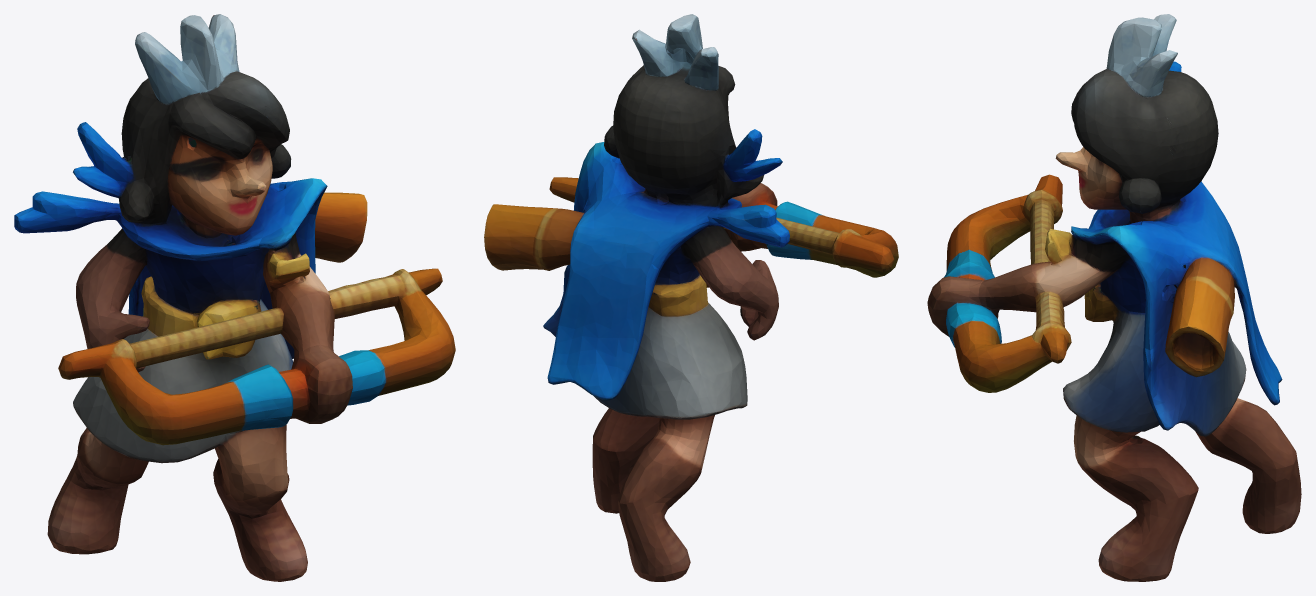
The model's file is princess.glb.
3 renders of one model, left to right at view 1: azimuth 30°, elevation 25°; view 2: azimuth 150°, elevation 25°; view 3: azimuth 270°, elevation 25°, orthographic. The views are drawn at different scales.
Visible parts, largest first — view 1: world; view 2: world; view 3: world.
Part boxes in pixels (x1=…): world: x1=14, y1=14, x2=455, y2=581; world: x1=484, y1=14, x2=898, y2=581; world: x1=927, y1=14, x2=1301, y2=581.
Size of the model in its own units: 0.7079 by 0.9988 by 0.6498.
1 material, 1 textured.
